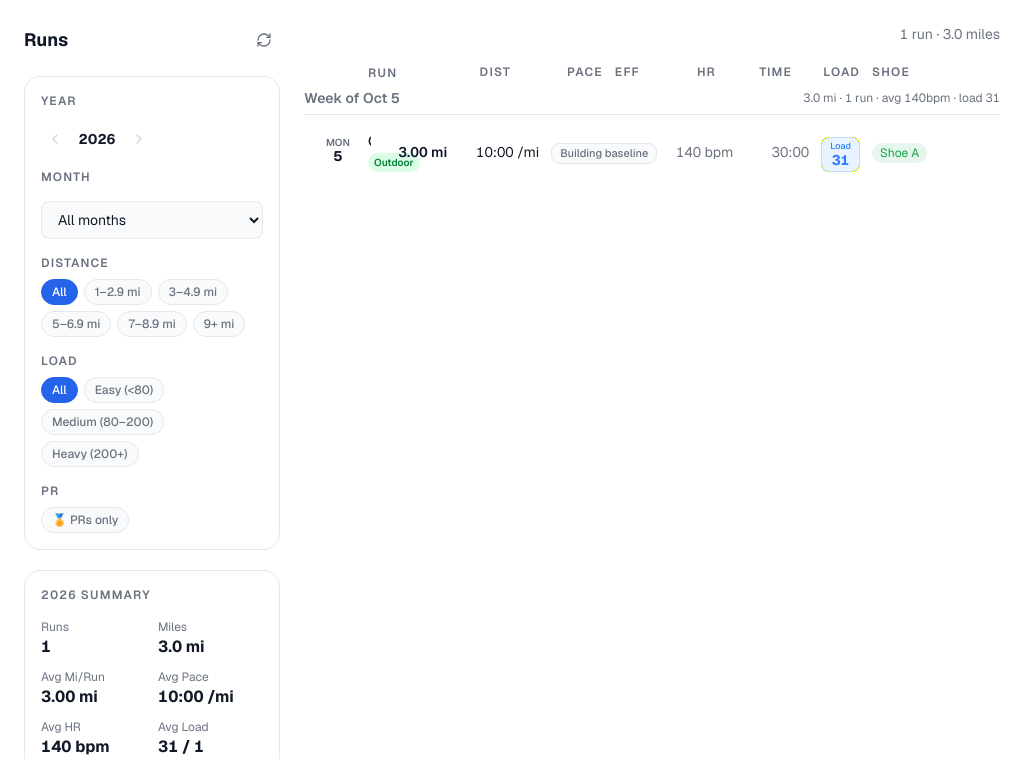
persisted shoe assignment publication › Runs keeps Shoe B canonical across six workout re-derivations
The width and height of the screenshot is (1024, 759).
Click the button "Shoe A" at point(900, 152), box [872, 142, 927, 162]
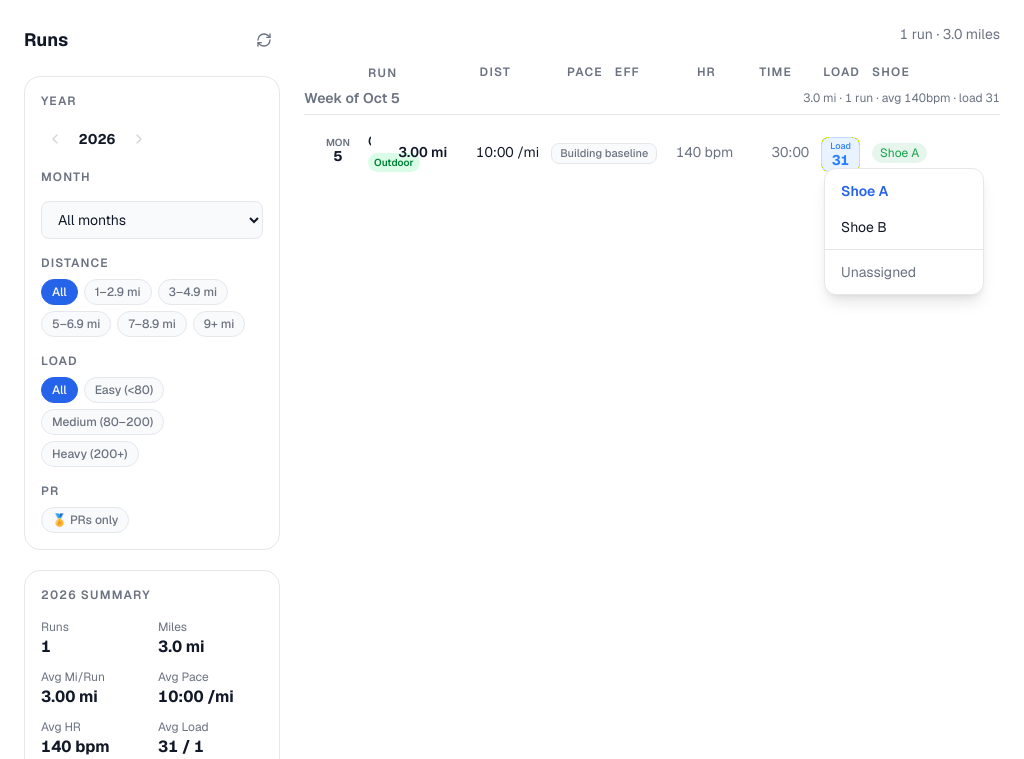
expect the button "Shoe B" is shown: met
Click the button "Shoe B" at point(904, 226), box [825, 208, 983, 244]
(page scrolled)
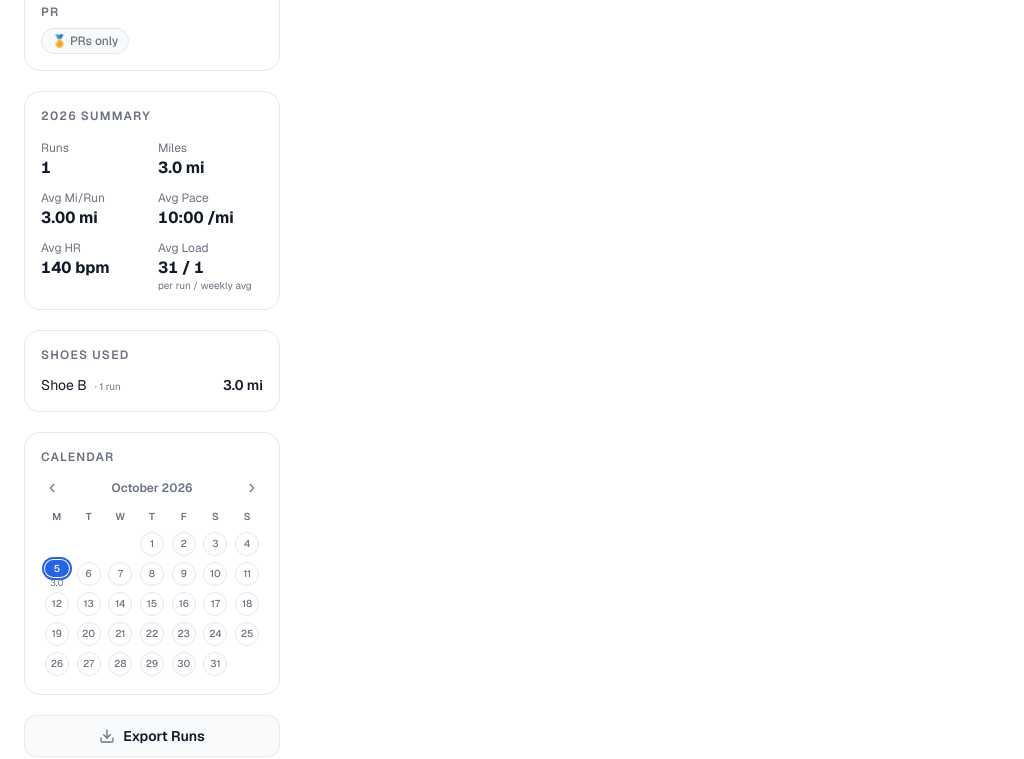
expect the text "Shoe B" is shown: met, box [41, 374, 87, 394]
